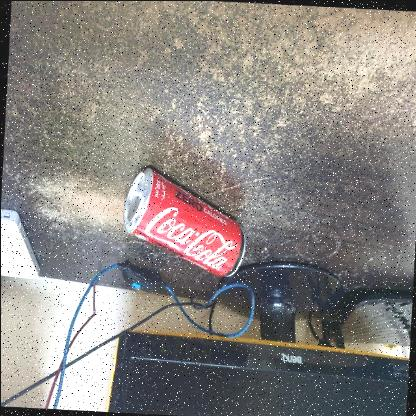Can: (113, 156, 251, 284)
